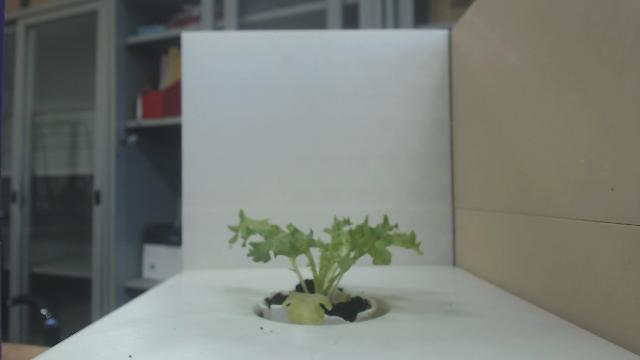Vegetative Stage: (228, 208, 424, 326)
